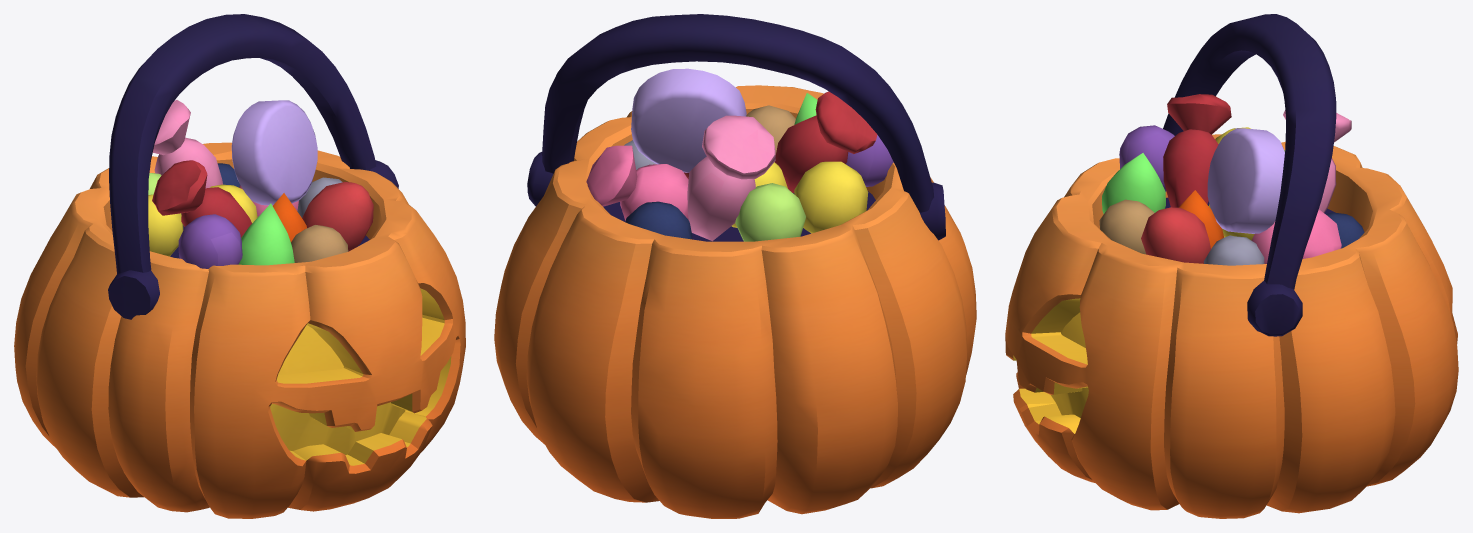
Rendered from treat_01.glb.
3 renders of one model, left to right at view 1: azimuth 30°, elevation 25°; view 2: azimuth 150°, elevation 25°; view 3: azimuth 270°, elevation 25°, orthographic. The views are drawn at different scales.
Parts seen in each view (by area): view 1: WBA_CandyBucket_Set_01; view 2: WBA_CandyBucket_Set_01; view 3: WBA_CandyBucket_Set_01.
Part boxes in pixels (box(x1,y1,x2,y2)): WBA_CandyBucket_Set_01: box(14, 14, 465, 518); WBA_CandyBucket_Set_01: box(494, 14, 976, 518); WBA_CandyBucket_Set_01: box(1005, 14, 1458, 518).
Bounding box in the file's own units: 0.2682 × 0.2827 × 0.2736.
1 material, 1 textured.
